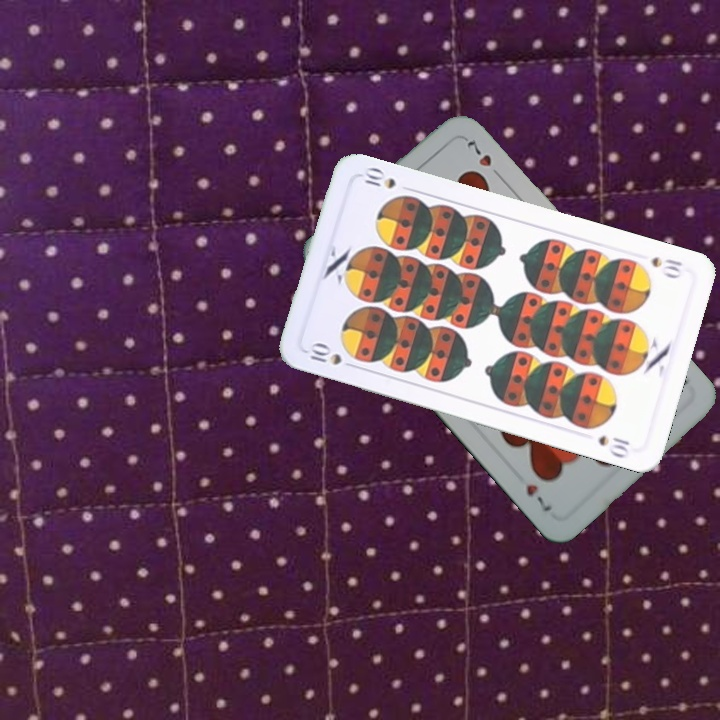S10: (302, 339, 360, 371), (647, 252, 686, 281)
